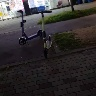gcooter: (31, 10, 58, 58), (14, 8, 47, 46)
